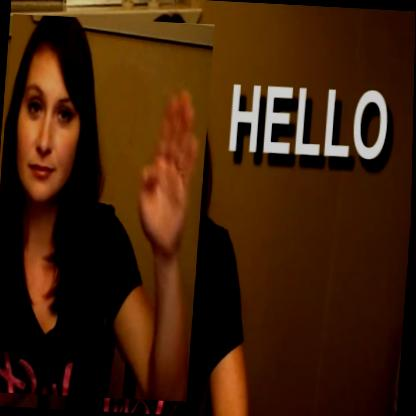Hello: (0, 13, 215, 401)
